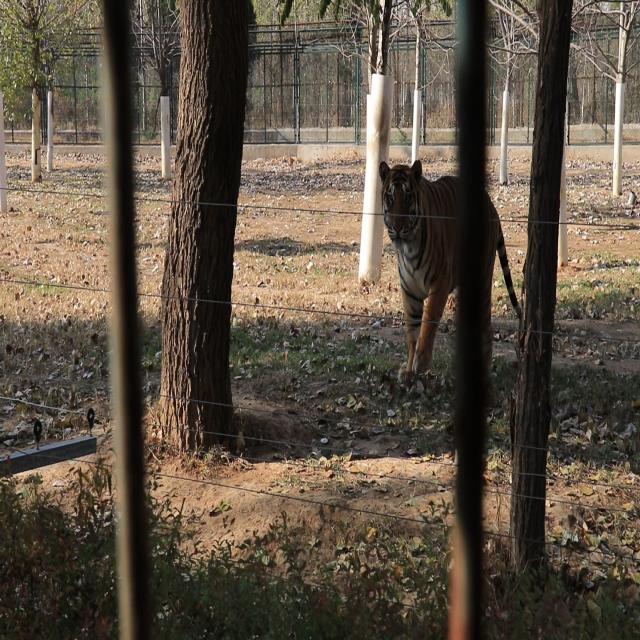Tiger: (362, 120, 526, 388)
